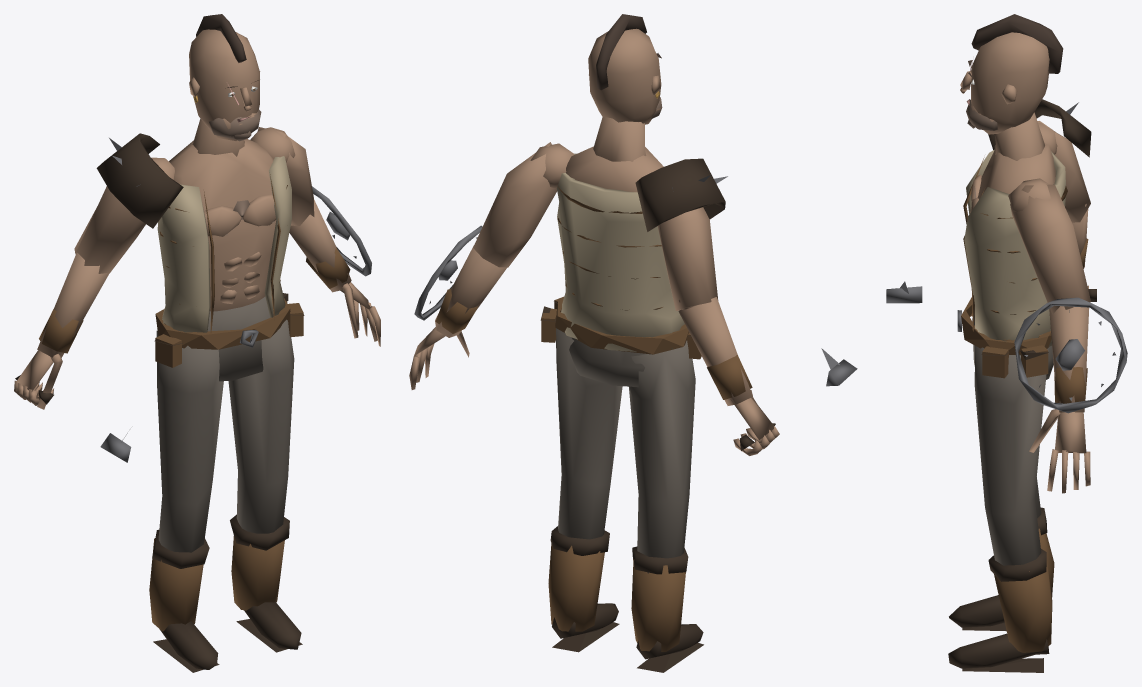
File: human_chain.glb
3 renders of one model, left to right at view 1: azimuth 30°, elevation 25°; view 2: azimuth 150°, elevation 25°; view 3: azimuth 270°, elevation 25°, orthographic.
Visible parts, largest first — view 1: human_chain__OW_Enemy_Bandit_Brute_MESH_d; view 2: human_chain__OW_Enemy_Bandit_Brute_MESH_d; view 3: human_chain__OW_Enemy_Bandit_Brute_MESH_d.
Part boxes in pixels (x1,y1,x2,y2): human_chain__OW_Enemy_Bandit_Brute_MESH_d: (14, 14, 380, 672); human_chain__OW_Enemy_Bandit_Brute_MESH_d: (409, 14, 857, 672); human_chain__OW_Enemy_Bandit_Brute_MESH_d: (886, 14, 1127, 672).
Bounding box in the file's own units: 1.24 × 2.09 × 0.7224.
